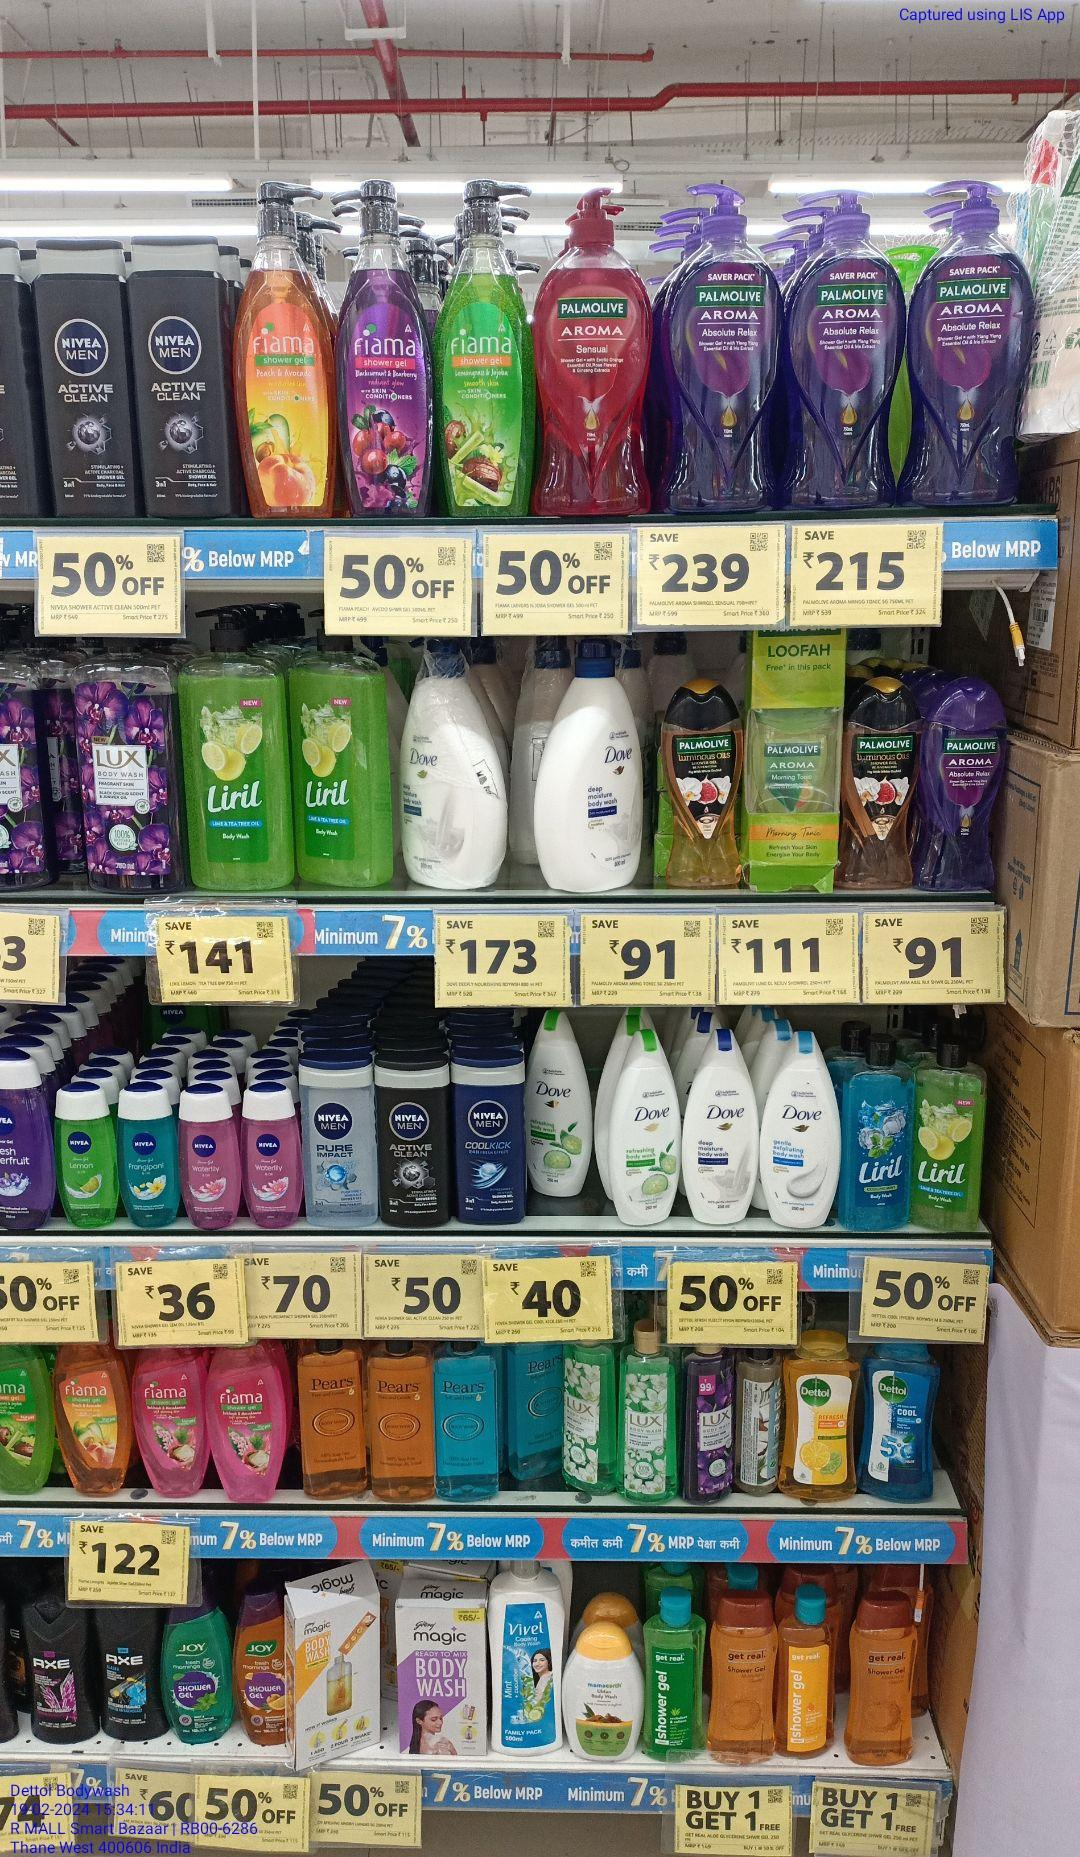Dettol_Bodywash_Cool: (860, 1346, 941, 1504)
Dettol_Bodywash_Refresh: (782, 1348, 863, 1498)
Dove_Deep_Moisture_Body_Wash_250ML: (681, 1028, 761, 1226)
Dove_Gentle_Exfoliating_Body_Wash_250ML: (762, 1028, 842, 1229)
Dove_Refreshing_Body_Wash_250ML: (607, 1026, 681, 1227), (526, 1009, 593, 1202)
Fiama_Shower_Gel_Patchouli_and_Macadamia_250ML: (206, 1344, 288, 1501), (132, 1347, 204, 1501)
Fiama_Shower_Gel_Peach_and_Avocado_250ML: (50, 1346, 130, 1493)
Get_Real_Shower_Gel_Moisturising_Glycerin_300ML: (843, 1590, 917, 1767), (706, 1590, 778, 1766)
Joy_Shower_Gel_Mandarin_and_Lemongrass_250ML: (231, 1583, 287, 1749)
Joy_Shower_Gel_Mint_and_Eucalyptus_250ML: (162, 1606, 234, 1745)
Liril_Cooling_Mint_Body_Wash_250ML: (843, 1032, 914, 1231)
Liril_Lime_and_Tea_Tree_Oil_Body_Wash_250ML: (912, 1033, 991, 1229)
Lux_Black_Orchid_Scent_and_Juniper_Oil_Body_Wash_245ML: (678, 1346, 734, 1504)
Lux_Body_Wash_Skin_Detox_Freesia_Scent_and_Alove_Vera_245ML: (618, 1319, 680, 1504), (559, 1344, 617, 1497)
Nivea_Shower_Gel_Frangipani_and_Oil_250ML: (120, 1080, 181, 1229)
Nivea_Shower_Gel_Lemon_and_Oil_250ML: (54, 1082, 117, 1231)
Nivea_Shower_Gel_Waterlily_and_Oil_250ML: (179, 1080, 242, 1231), (240, 1082, 302, 1229)
Pears_Pure_Glycerin_and_Mint_Extracts_Body_Wash_250ML: (432, 1342, 500, 1502)
